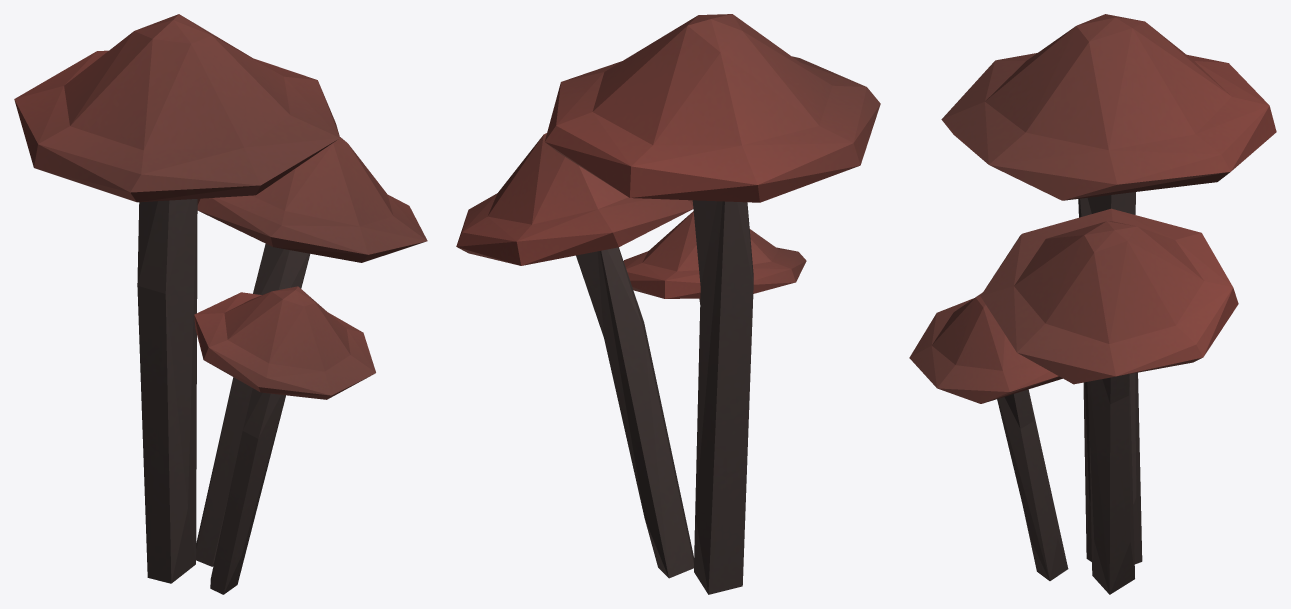
Rendered from Mush_1A.fbx.
The picture shows the model from 3 angles, left to right: view 1: azimuth 30°, elevation 25°; view 2: azimuth 150°, elevation 25°; view 3: azimuth 270°, elevation 25°; orthographic projection. The views are drawn at different scales.
Parts seen in each view (by area): view 1: polySurface1311; view 2: polySurface1311; view 3: polySurface1311.
Part boxes in pixels (<box>): polySurface1311: <box>14,14,427,594</box>; polySurface1311: <box>456,14,880,594</box>; polySurface1311: <box>909,14,1276,594</box>.
Size of the model in its own units: 2.03 by 2.81 by 1.7.
